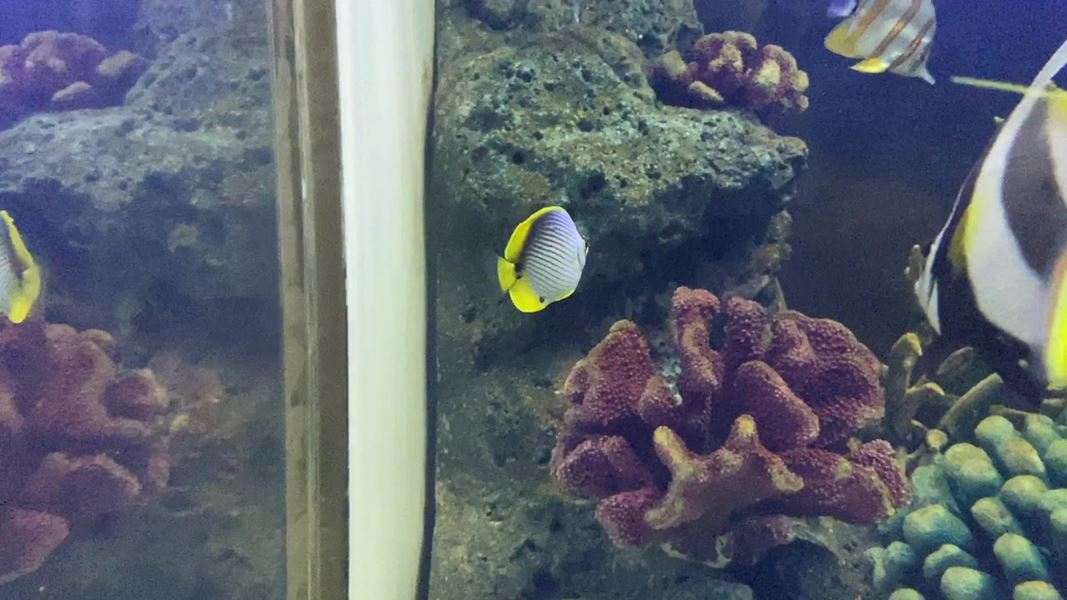Black-backed butterflyfish: (476, 199, 600, 321)
